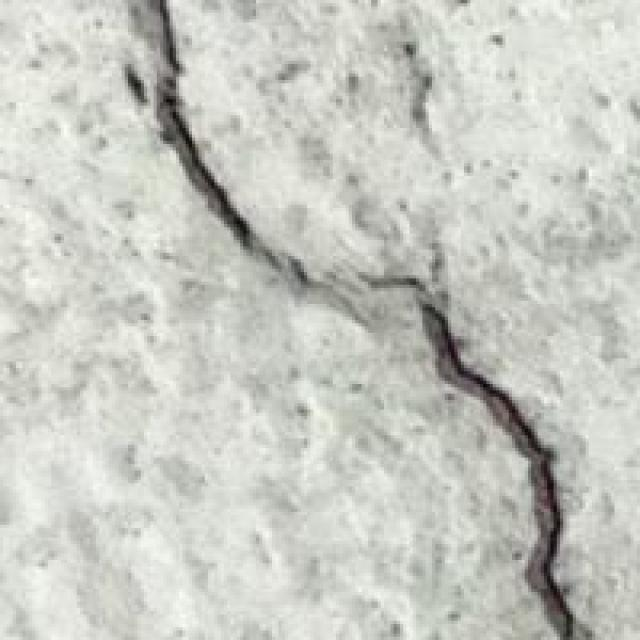crack: (131, 12, 589, 634)
